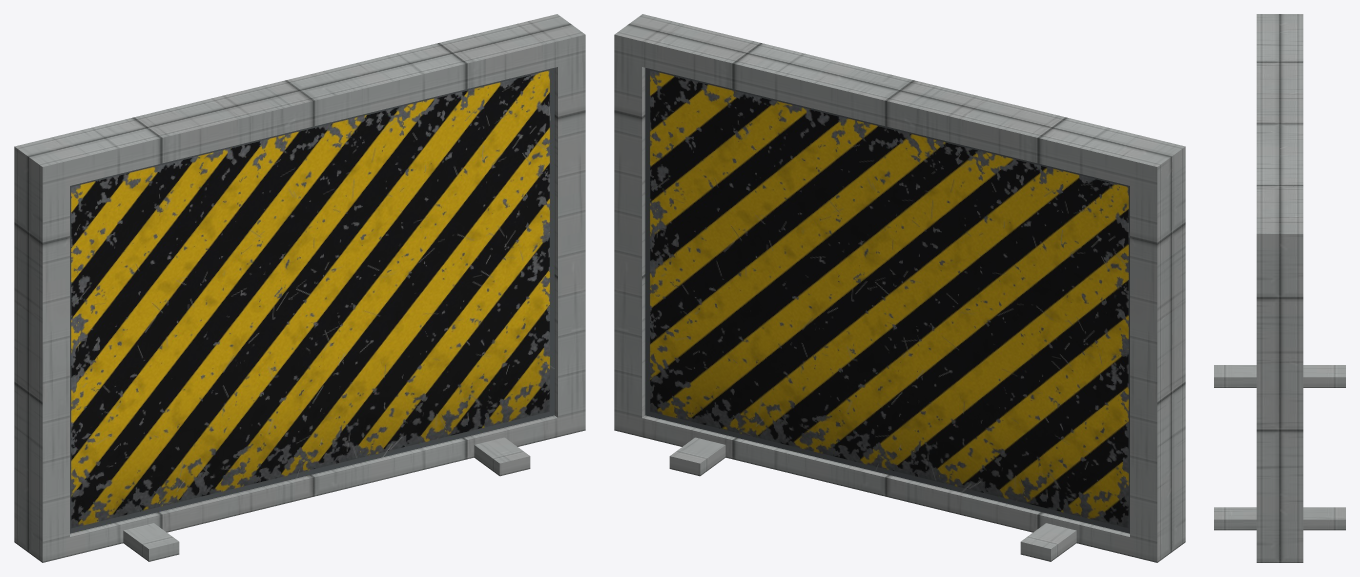
The model's file is lab_barrier.glb.
3 views of the same model, side by side, from view 1: azimuth 30°, elevation 25°; view 2: azimuth 150°, elevation 25°; view 3: azimuth 270°, elevation 25° (orthographic). The views are drawn at different scales.
Visible parts, largest first — view 1: lab_barrier; view 2: lab_barrier; view 3: lab_barrier.
Boxes of the visible parts, x1,y1,x2,y2 form: lab_barrier: (14,14,585,562); lab_barrier: (614,14,1185,562); lab_barrier: (1214,14,1345,562).
Bounding box in the file's own units: 3.56 × 2.48 × 0.9.
Materials: 2 (2 with a texture image).
